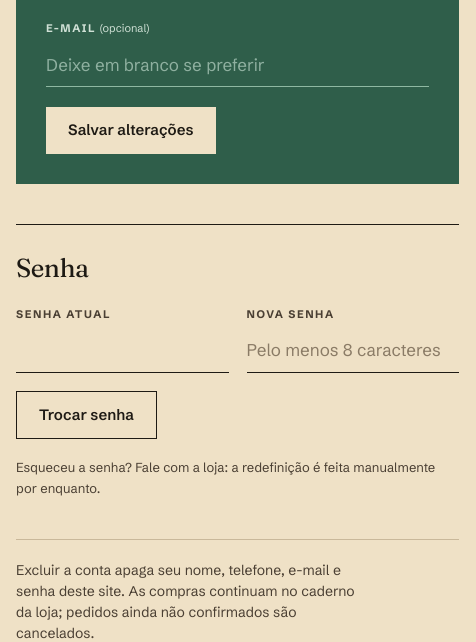
Test: MyAccount — trocar a senha › com a senha atual errada, mostra o erro e mantém o token que já tinha
(page scrolled)
In the password field labelled "Senha atual": [122, 351] box [16,328,228,373], type "errada-errada"
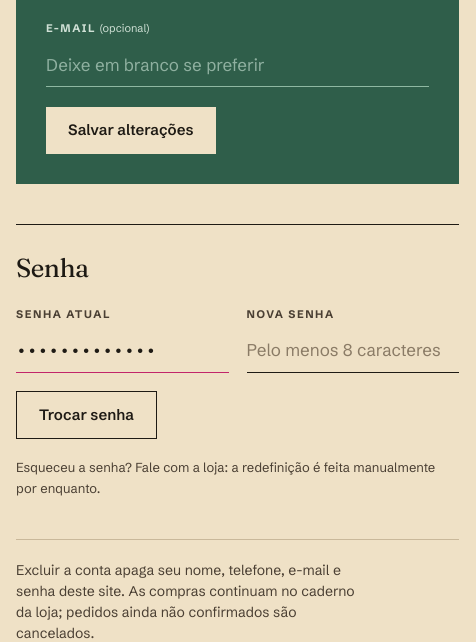
In the password field labelled "Nova senha": [353, 351] box [246,328,459,373], type "senha-nova-123"
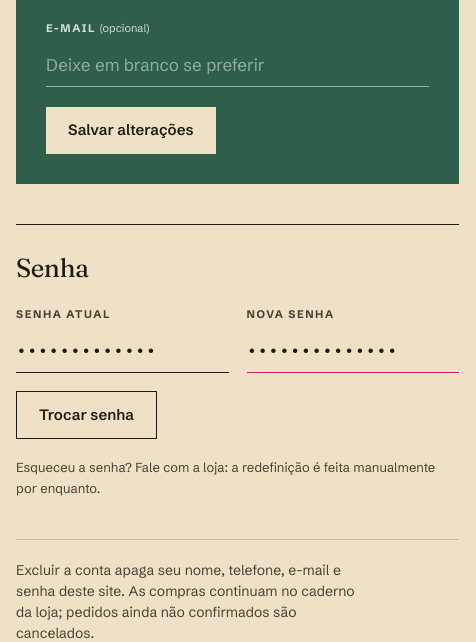
Click the button "Trocar senha": [86, 415] box [16,391,157,439]
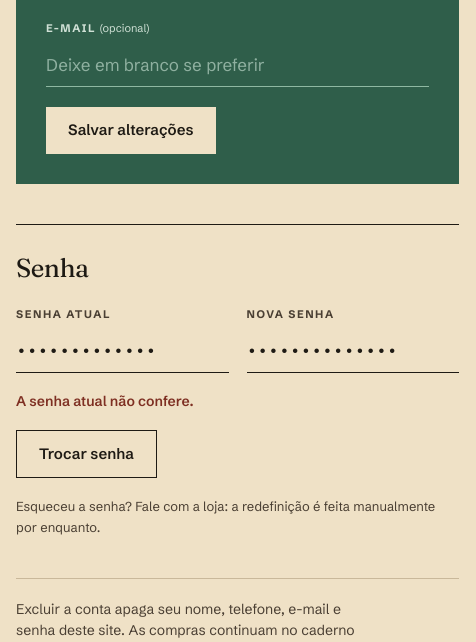
expect the message reads "A senha atual não confere.": met, box [16,392,194,410]
